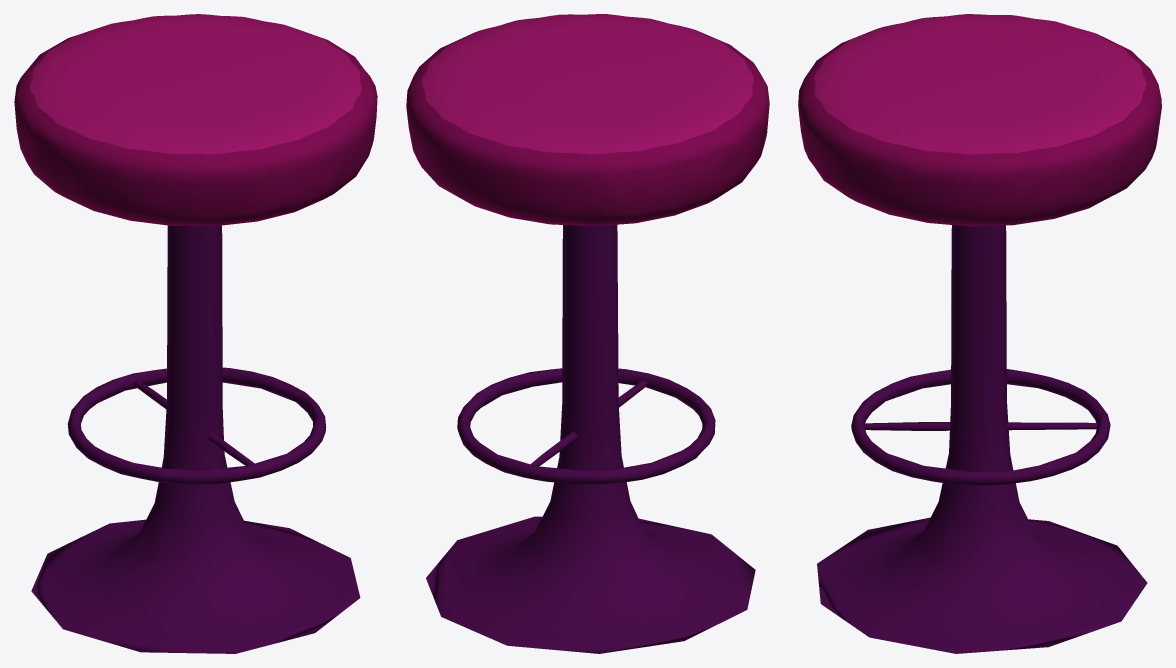
The model's file is pokerituoli_fixed2.fbx.
The picture shows the model from 3 angles, left to right: view 1: azimuth 30°, elevation 25°; view 2: azimuth 150°, elevation 25°; view 3: azimuth 270°, elevation 25°; orthographic projection.
Parts seen in each view (by area): view 1: pokerituoli4e:Poker_chair1; view 2: pokerituoli4e:Poker_chair1; view 3: pokerituoli4e:Poker_chair1.
Boxes of the visible parts, bbox=[...] form: pokerituoli4e:Poker_chair1: bbox=[14, 14, 377, 653]; pokerituoli4e:Poker_chair1: bbox=[406, 14, 769, 653]; pokerituoli4e:Poker_chair1: bbox=[798, 14, 1161, 653].
Bounding box in the file's own units: 2.27 × 3.48 × 2.27.
Materials: 2 (2 with a texture image).
